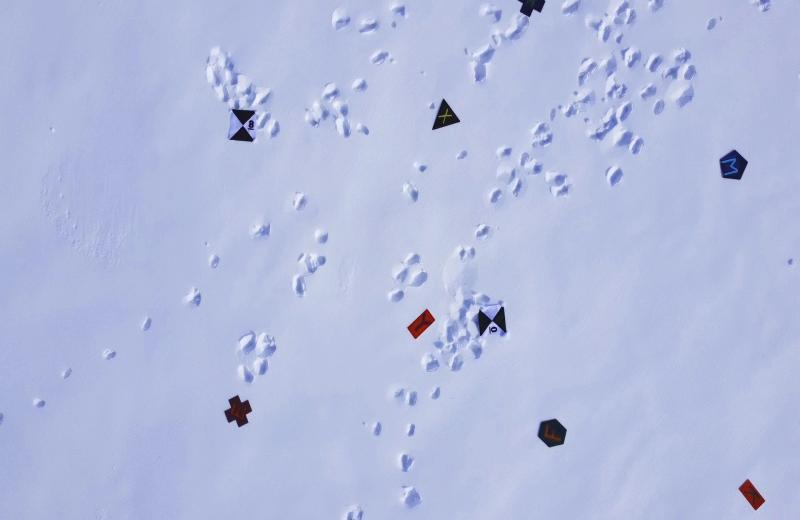Cross: (222, 394, 254, 431), (514, 0, 550, 20)
Hexagon: (536, 416, 570, 450)
Pentagon: (715, 147, 751, 185)
Rectangle: (399, 304, 438, 341), (732, 475, 768, 512)
Triangle: (427, 96, 462, 135)
